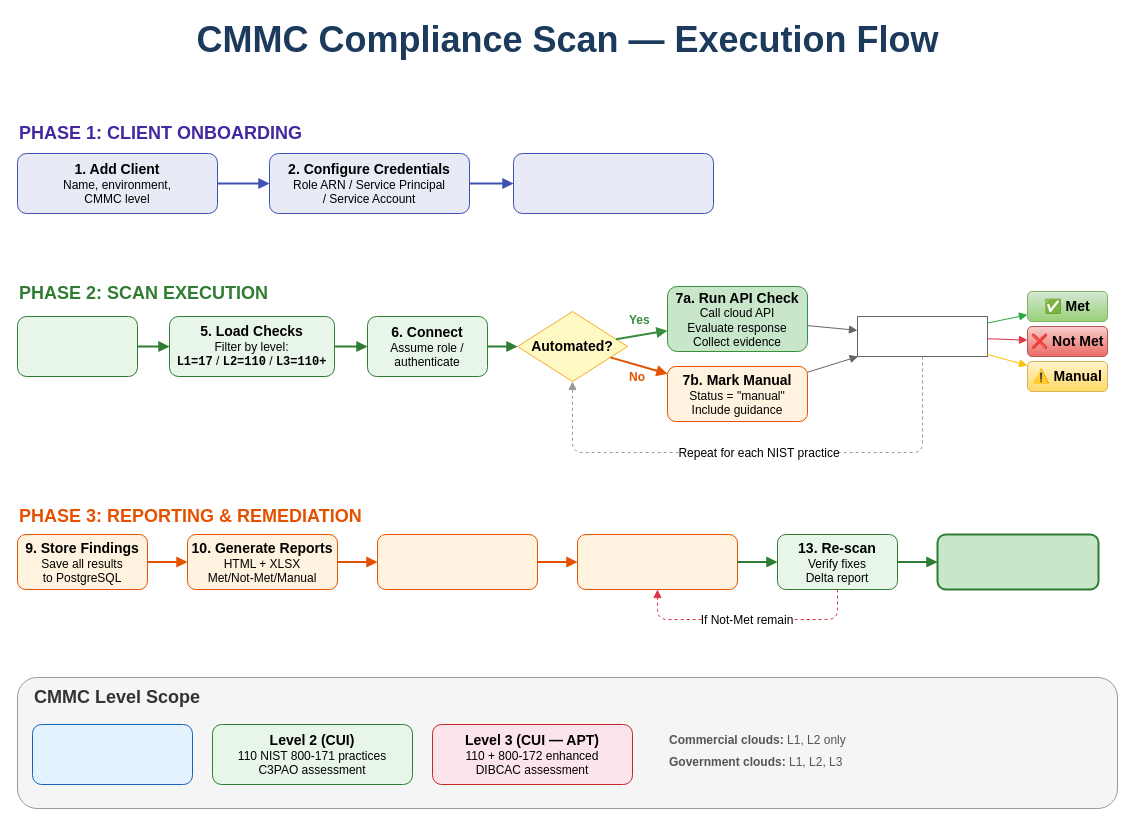
This 1135x826 diagram has some shape labels left out. The shapes that lost their labels are listed below. From the top down, each one's box as (x1, y1, x2, y2) in pixels, then its label:
(512, 152, 714, 214): 3. Test Connection Verify read-only access to client environment
(16, 316, 138, 376): 4. Start Scan Select client Confirm level
(856, 316, 988, 356): 8. Determine Status
(376, 534, 538, 590): 11. Review with Client Dashboard walkthrough Not-Met prioritization
(576, 534, 738, 590): 12. Remediate Client or Securitybricks fixes Not-Met items
(936, 533, 1099, 590): 14. Assessment Ready All Met ✅ Evidence collected
(32, 724, 192, 784): Level 1 (FCI) 17 FAR practices Self-assessment
